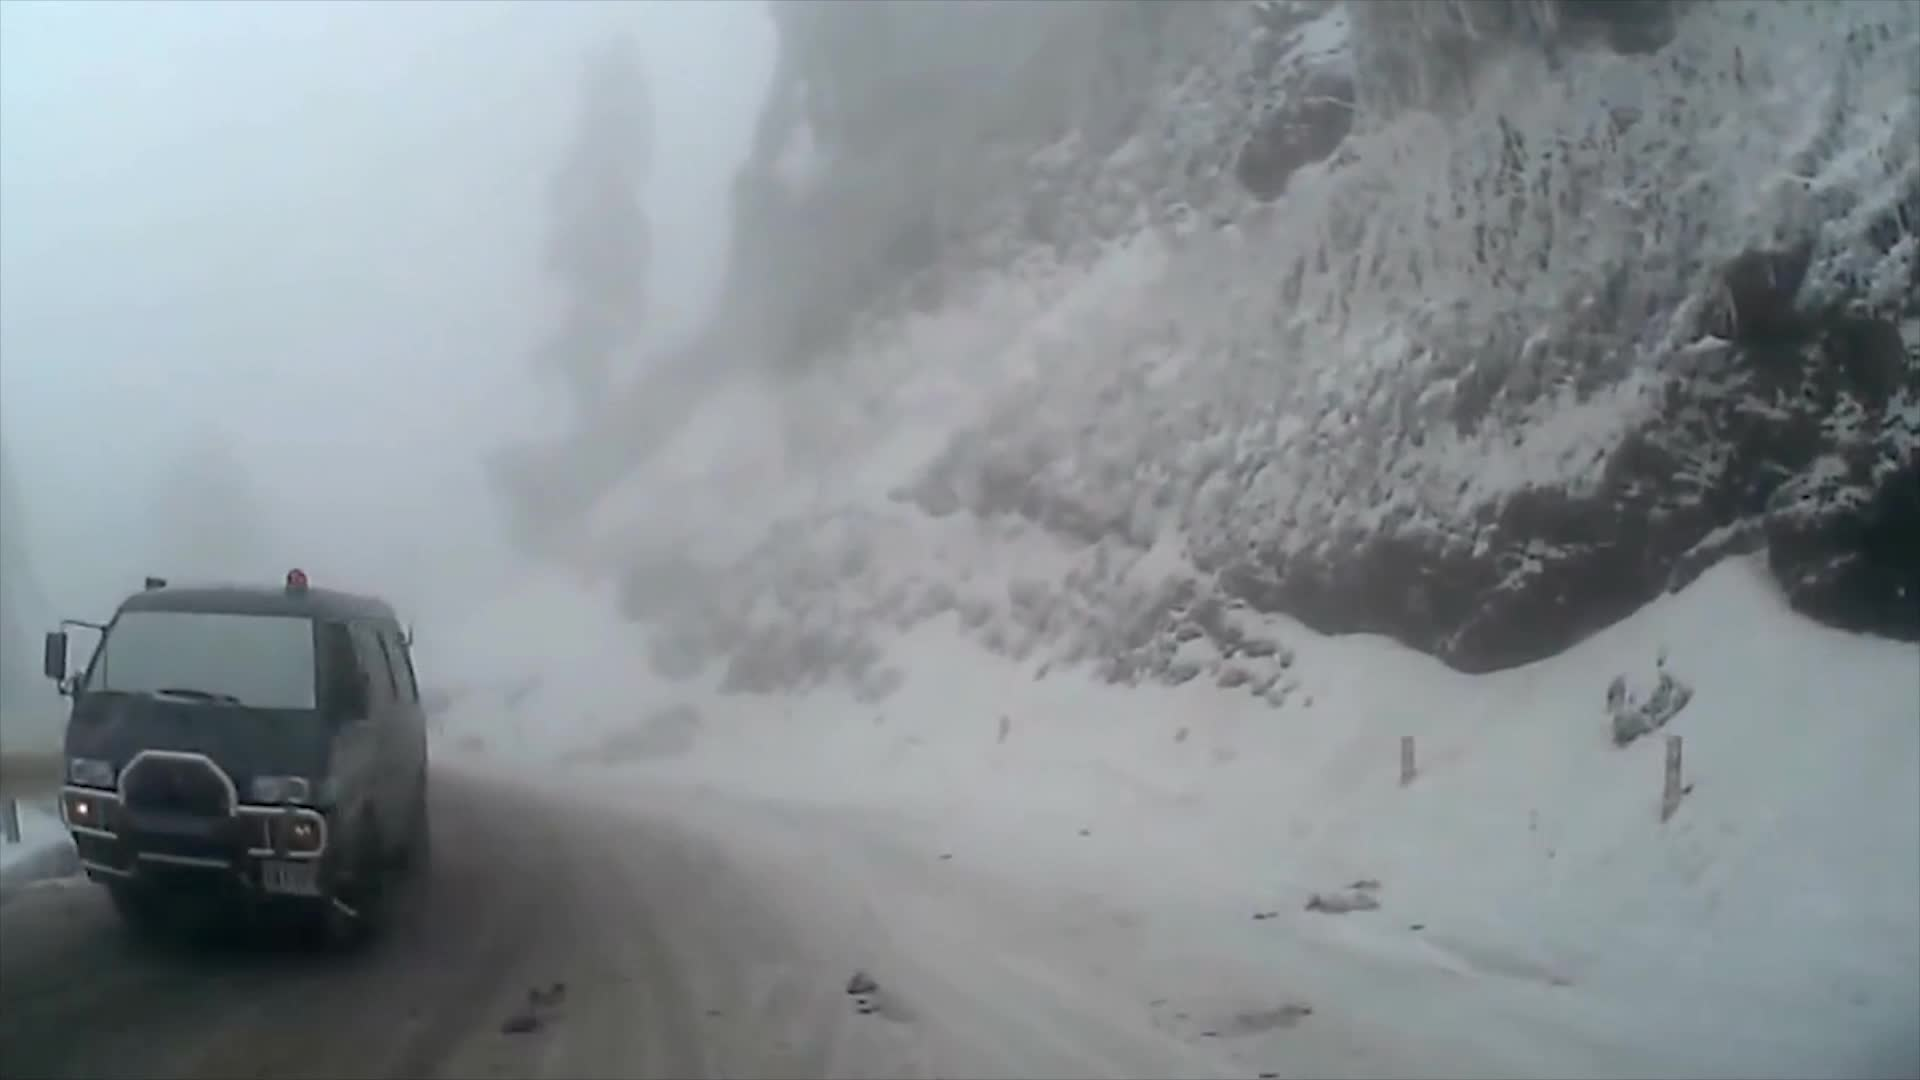vehicle: (44, 568, 431, 951)
